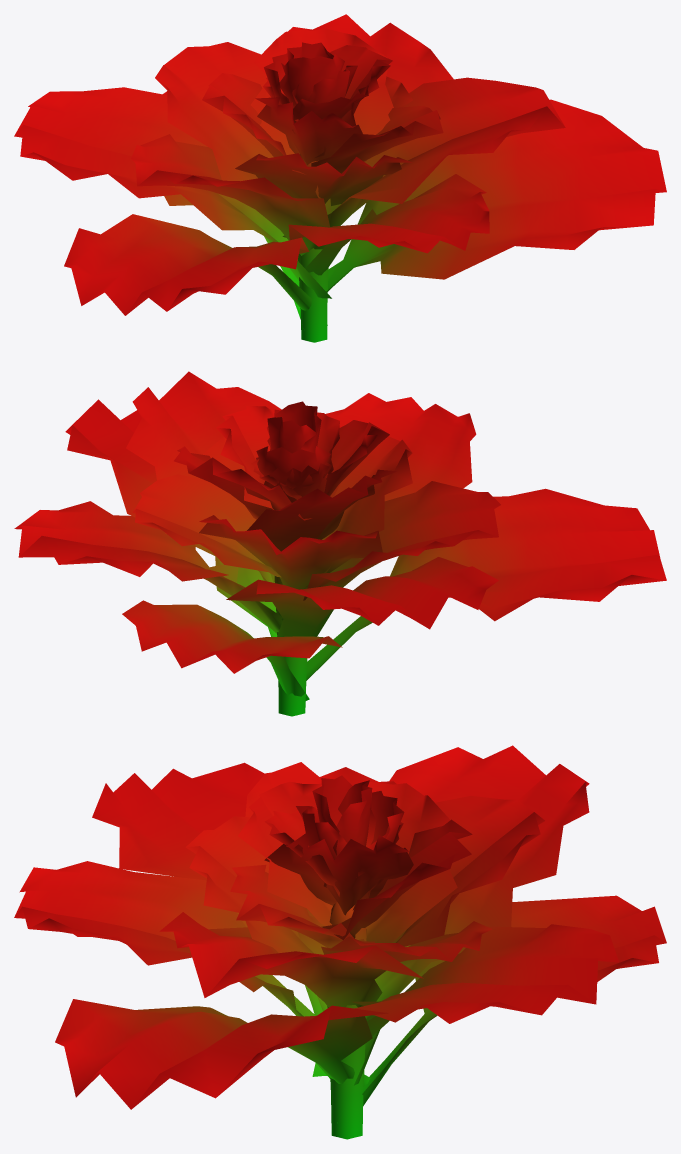
Rendered from Purple Ornamental Kale_LOD1_Var7_ugdieawja.fbx.
3 renders of one model, top to bottom at view 1: azimuth 30°, elevation 25°; view 2: azimuth 150°, elevation 25°; view 3: azimuth 270°, elevation 25°, orthographic. The views are drawn at different scales.
Visible parts, largest first — view 1: _766d_Var7_LOD1; view 2: _766d_Var7_LOD1; view 3: _766d_Var7_LOD1.
Boxes of the visible parts, x1,y1,x2,y2 form: _766d_Var7_LOD1: (14,14,666,342); _766d_Var7_LOD1: (14,371,666,716); _766d_Var7_LOD1: (14,745,666,1139).
Bounding box in the file's own units: 41.51 × 20.04 × 34.31.
